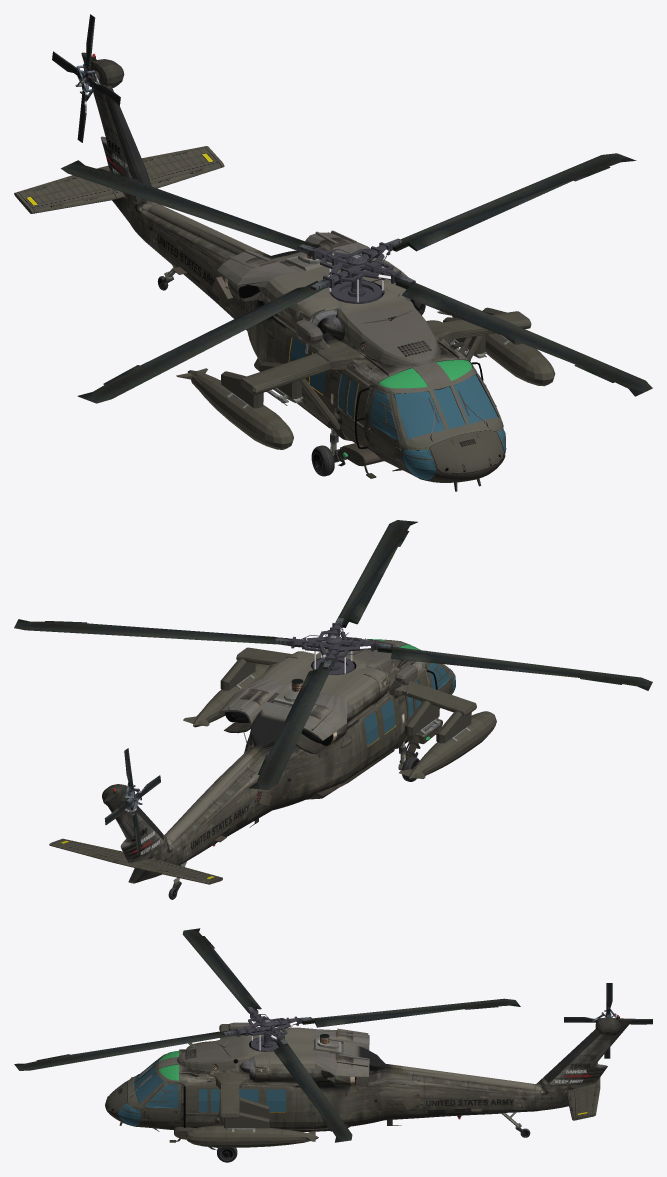
The model's file is helicopter.fbx.
3 renders of one model, top to bottom at view 1: azimuth 30°, elevation 25°; view 2: azimuth 150°, elevation 25°; view 3: azimuth 270°, elevation 25°, orthographic. The views are drawn at different scales.
Parts seen in each view (by area): view 1: fuselage, main_rotor, elevator, cabinDoor_, rear_rotor, Door_R; view 2: fuselage, main_rotor, Door_R, elevator, rear_rotor, cabinDoor_; view 3: fuselage, main_rotor, Door_L, cabinDoo13, elevator, rear_rotor.
Part boxes in pixels (x1,y1,x2,y2): fuselage: (81,52,555,491); main_rotor: (61,153,652,403); elevator: (14,146,224,213); cabinDoor_: (367,385,404,469); rear_rotor: (52,14,120,142); Door_R: (282,330,330,423); fuselage: (102,632,496,895); main_rotor: (14,520,652,789); Door_R: (356,697,399,773); elevator: (49,838,222,884); rear_rotor: (104,748,160,852); cabinDoor_: (426,662,453,708); fuselage: (105,1015,632,1150); main_rotor: (14,928,520,1142); Door_L: (239,1088,294,1129); cabinDoo13: (142,1081,181,1126); elevator: (566,1062,600,1120); rear_rotor: (564,983,652,1058).
Bounding box in the file's own units: 0.0154 × 0.00523 × 0.0194.
